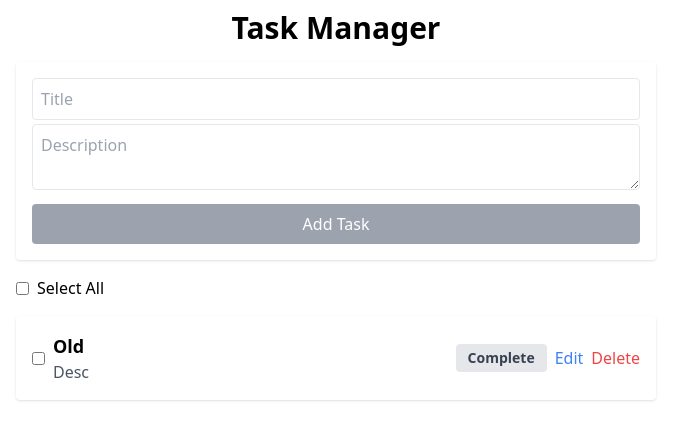
Test: App Component › shows character count error if title < 5 chars
Step 1. Type "1234" into the field with placeholder "Title" → (336, 99), box [32, 78, 640, 120]
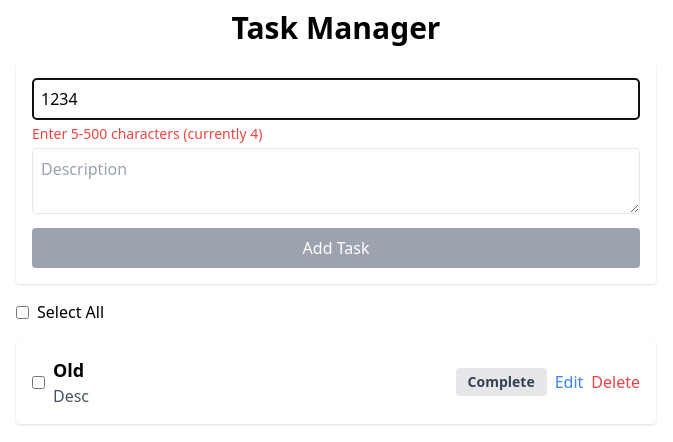
Result: the text "Enter 5-500 characters (currently 4)" is shown at [32, 124, 262, 143]
